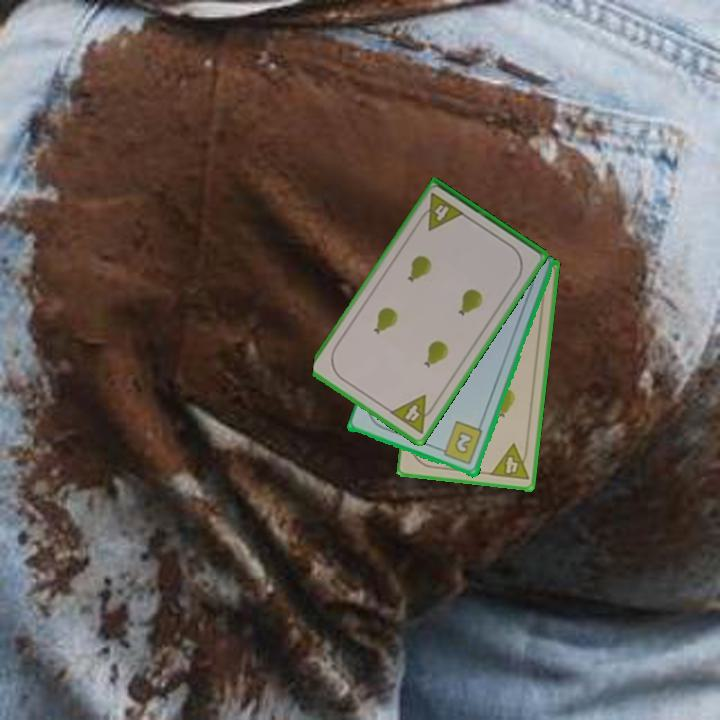2b: (435, 418, 486, 468)
4p: (386, 391, 440, 437), (415, 189, 467, 234), (487, 441, 532, 483)
